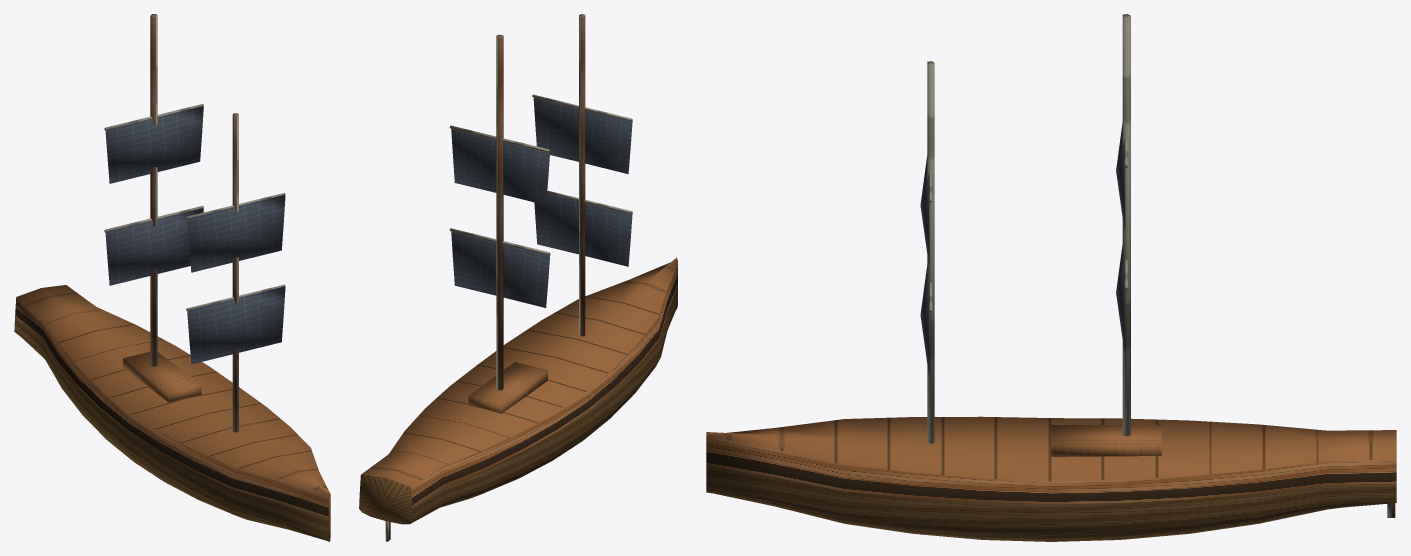
Rendered from SHIP-M_LOD1.fbx.
3 views of the same model, side by side, from view 1: azimuth 30°, elevation 25°; view 2: azimuth 150°, elevation 25°; view 3: azimuth 270°, elevation 25° (orthographic). The views are drawn at different scales.
Parts seen in each view (by area): view 1: Hull, Sails, Masts; view 2: Hull, Sails, Masts; view 3: Hull, Masts, Sails.
Boxes of the visible parts, box(x1,y1,x2,y2) form: Hull: box(14, 285, 330, 541); Sails: box(105, 106, 285, 364); Masts: box(104, 14, 285, 432); Hull: box(359, 257, 677, 524); Sails: box(451, 97, 632, 307); Masts: box(385, 14, 632, 541); Hull: box(706, 416, 1396, 541); Masts: box(927, 14, 1395, 517); Sails: box(920, 123, 1125, 374).
Size of the model in its own units: 5.6 by 24 by 19.6.
3 materials, 3 textured.
